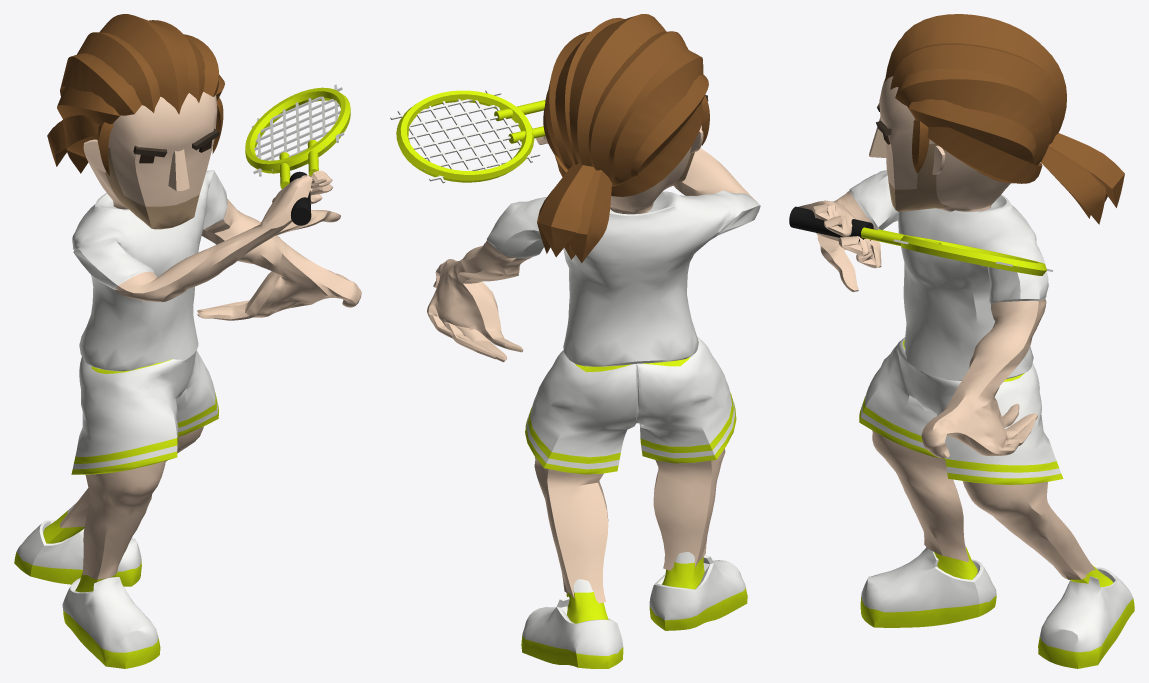
Rendered from av-tenista-clube.glb.
3 views of the same model, side by side, from view 1: azimuth 30°, elevation 25°; view 2: azimuth 150°, elevation 25°; view 3: azimuth 270°, elevation 25° (orthographic). The views are drawn at different scales.
Parts seen in each view (by area): view 1: Ad_raquete_0_0; view 2: Ad_raquete_0_0; view 3: Ad_raquete_0_0.
Part boxes in pixels (x1=…): Ad_raquete_0_0: x1=14, y1=14, x2=361, y2=668; Ad_raquete_0_0: x1=390, y1=14, x2=760, y2=668; Ad_raquete_0_0: x1=789, y1=14, x2=1134, y2=668.
Bounding box in the file's own units: 0.7433 × 1.39 × 0.6915.
Materials: 1 (1 with a texture image).
